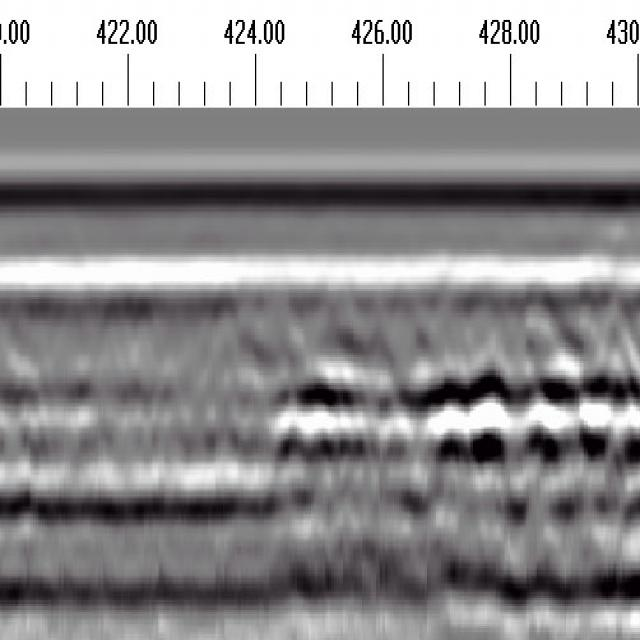loose: (269, 356, 640, 473)
